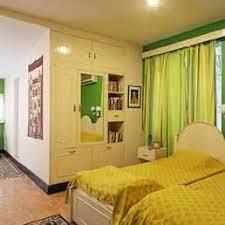bed: (66, 123, 225, 225)
light: (143, 0, 159, 7)
